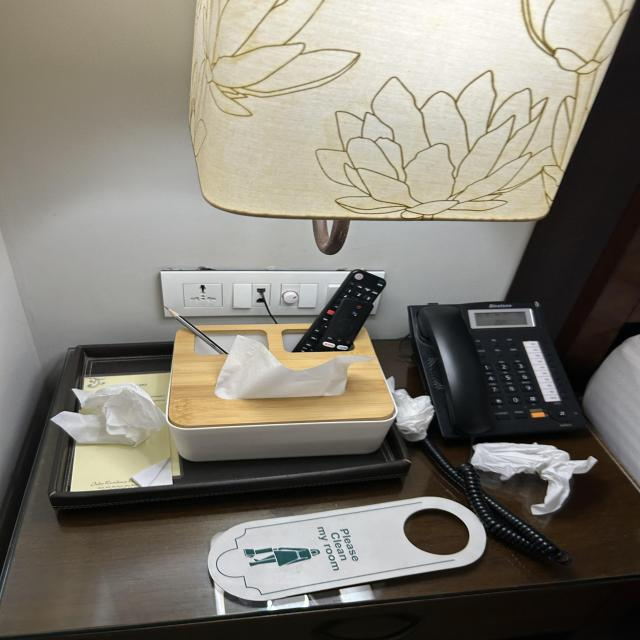mess: (6, 231, 639, 640)
